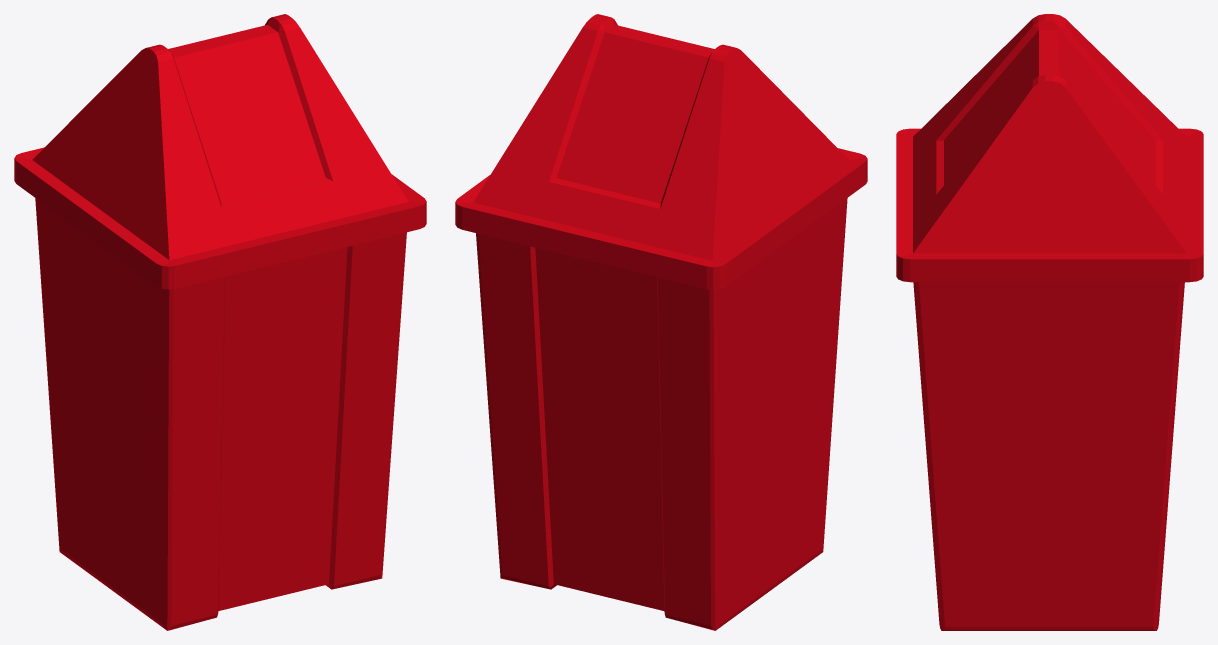
File: Plastico.fbx
3 renders of one model, left to right at view 1: azimuth 30°, elevation 25°; view 2: azimuth 150°, elevation 25°; view 3: azimuth 270°, elevation 25°, orthographic.
Parts seen in each view (by area): view 1: lixo; view 2: lixo; view 3: lixo.
Boxes of the visible parts, bbox=[...] form: lixo: bbox=[14, 14, 426, 630]; lixo: bbox=[455, 14, 867, 630]; lixo: bbox=[896, 14, 1203, 630].
Size of the model in its own units: 238 by 237 by 451.
